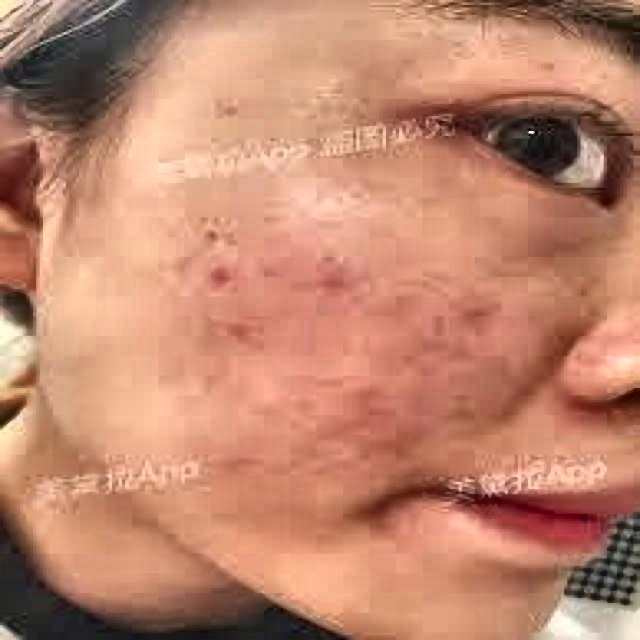comedone: (445, 292, 508, 334), (310, 257, 350, 306), (192, 269, 248, 294)
